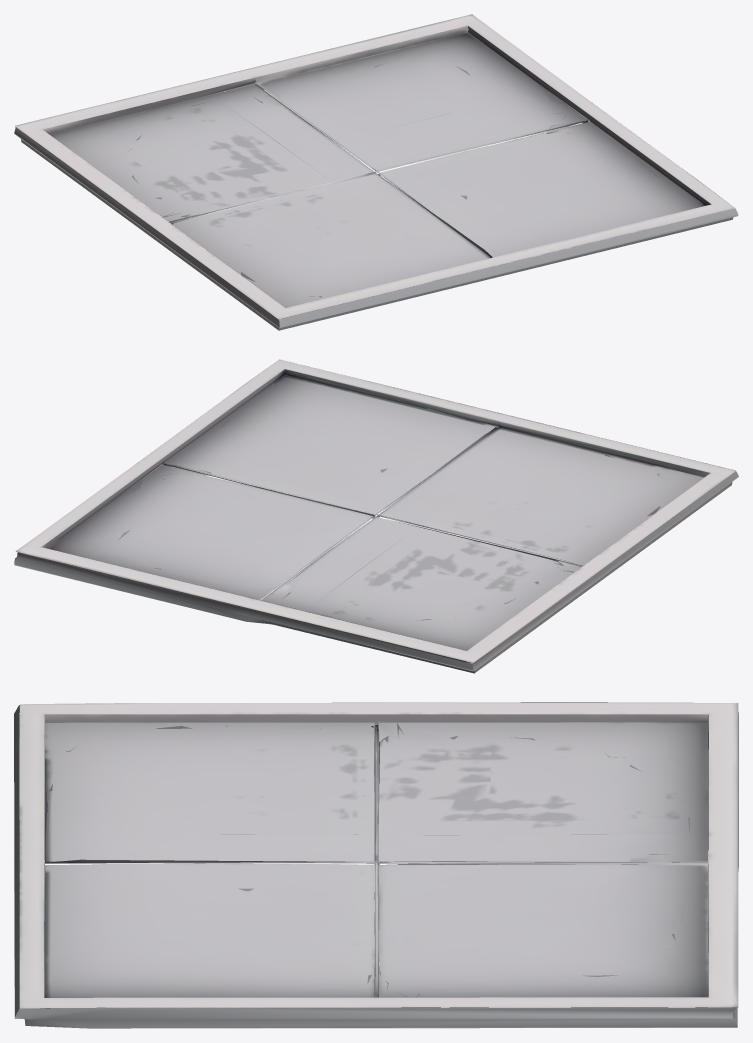
Rendered from ceiling.glb.
3 views of the same model, one above another, from view 1: azimuth 30°, elevation 25°; view 2: azimuth 150°, elevation 25°; view 3: azimuth 270°, elevation 25° (orthographic). The views are drawn at different scales.
Visible parts, largest first — view 1: Industrial_ceiling; view 2: Industrial_ceiling; view 3: Industrial_ceiling.
Part boxes in pixels (left/top/right/bottom): Industrial_ceiling: left=14, top=14, right=738, bottom=330; Industrial_ceiling: left=14, top=359, right=738, bottom=673; Industrial_ceiling: left=14, top=702, right=738, bottom=1028.
Size of the model in its own units: 4 by 0.1225 by 4.
Materials: 1 (1 with a texture image).
